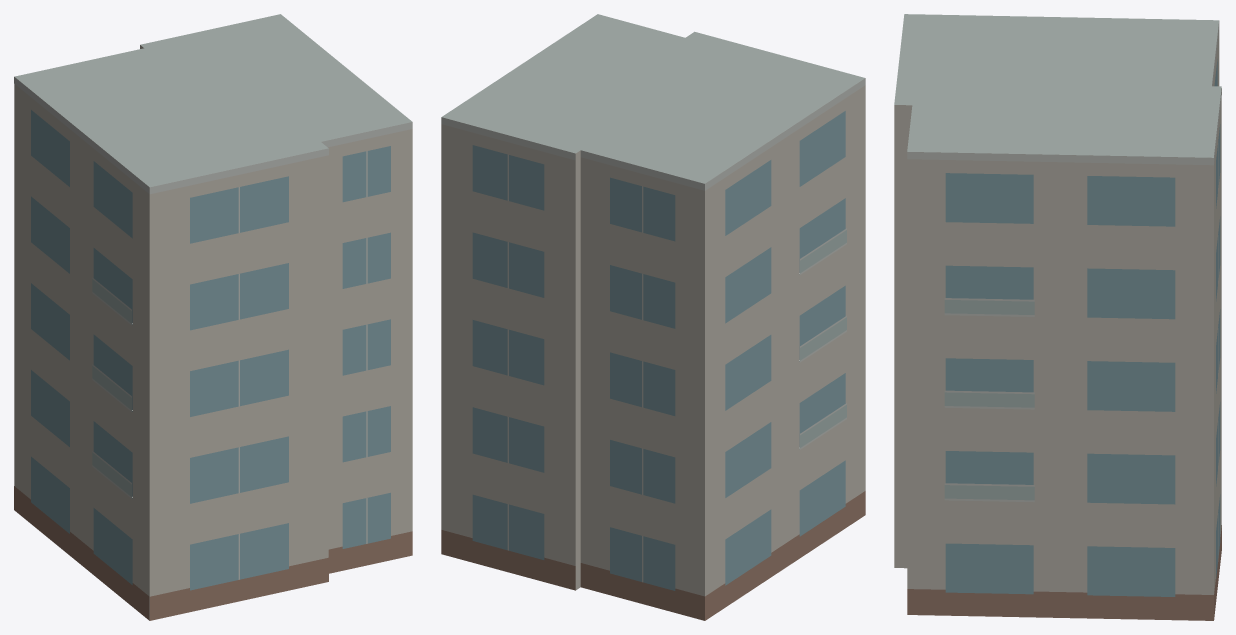
The model's file is survey-upis-32939876.glb.
3 views of the same model, side by side, from view 1: azimuth 30°, elevation 25°; view 2: azimuth 150°, elevation 25°; view 3: azimuth 270°, elevation 25° (orthographic). The views are drawn at different scales.
Parts seen in each view (by area): view 1: survey-upis-32939876.tmp; view 2: survey-upis-32939876.tmp; view 3: survey-upis-32939876.tmp.
Part boxes in pixels (<box>): survey-upis-32939876.tmp: <box>14,14,412,620</box>; survey-upis-32939876.tmp: <box>441,14,865,620</box>; survey-upis-32939876.tmp: <box>894,14,1221,620</box>.
Bounding box in the file's own units: 10.17 × 15.25 × 9.79.
